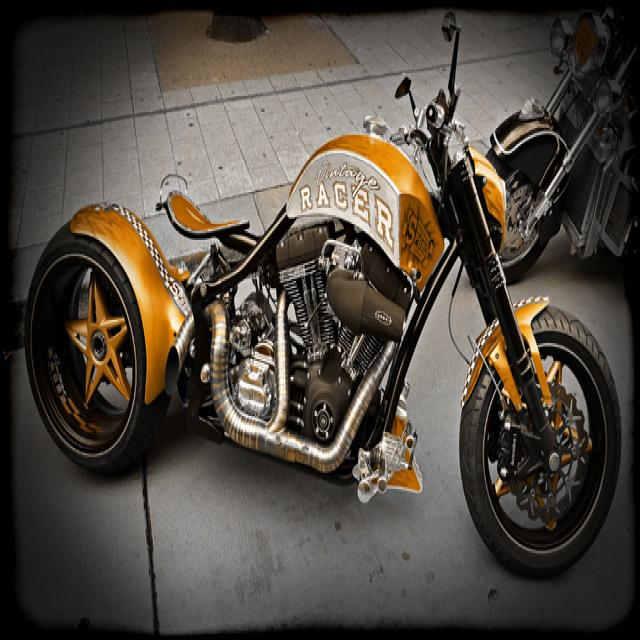motor: (25, 4, 621, 577), (489, 2, 640, 281)
